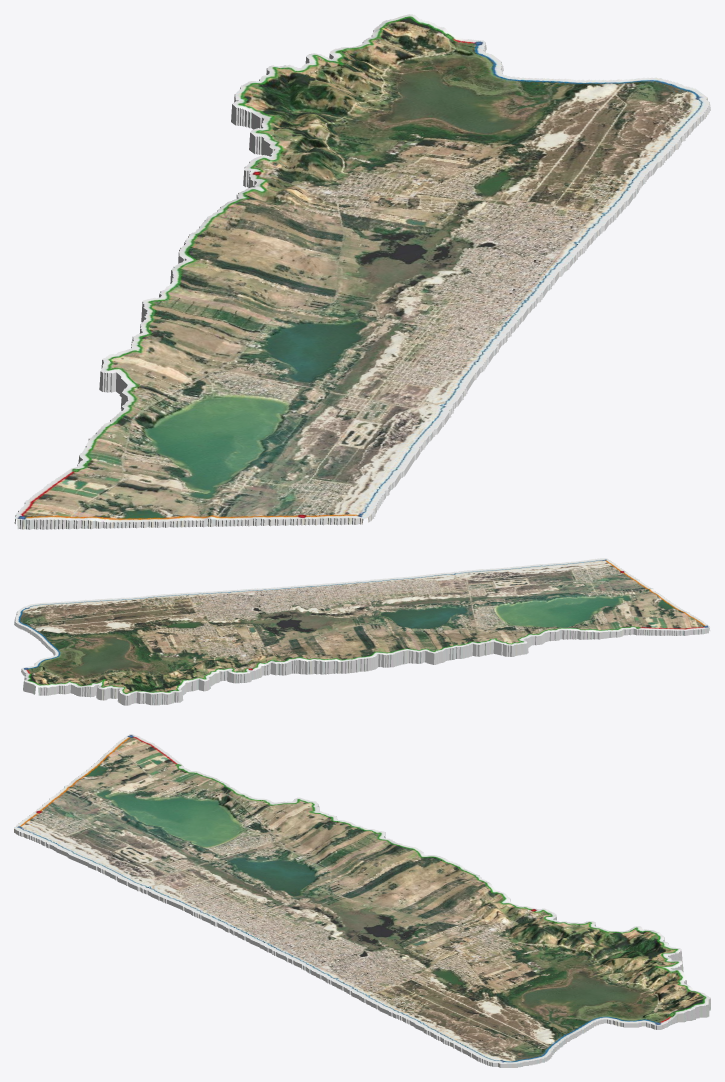
3 views of the same model, one above another, from view 1: azimuth 30°, elevation 25°; view 2: azimuth 150°, elevation 25°; view 3: azimuth 270°, elevation 25° (orthographic). The views are drawn at different scales.
Size of the model in its own units: 0.9993 by 0.0253 by 0.8986.
Materials: 1 (1 with a texture image).
